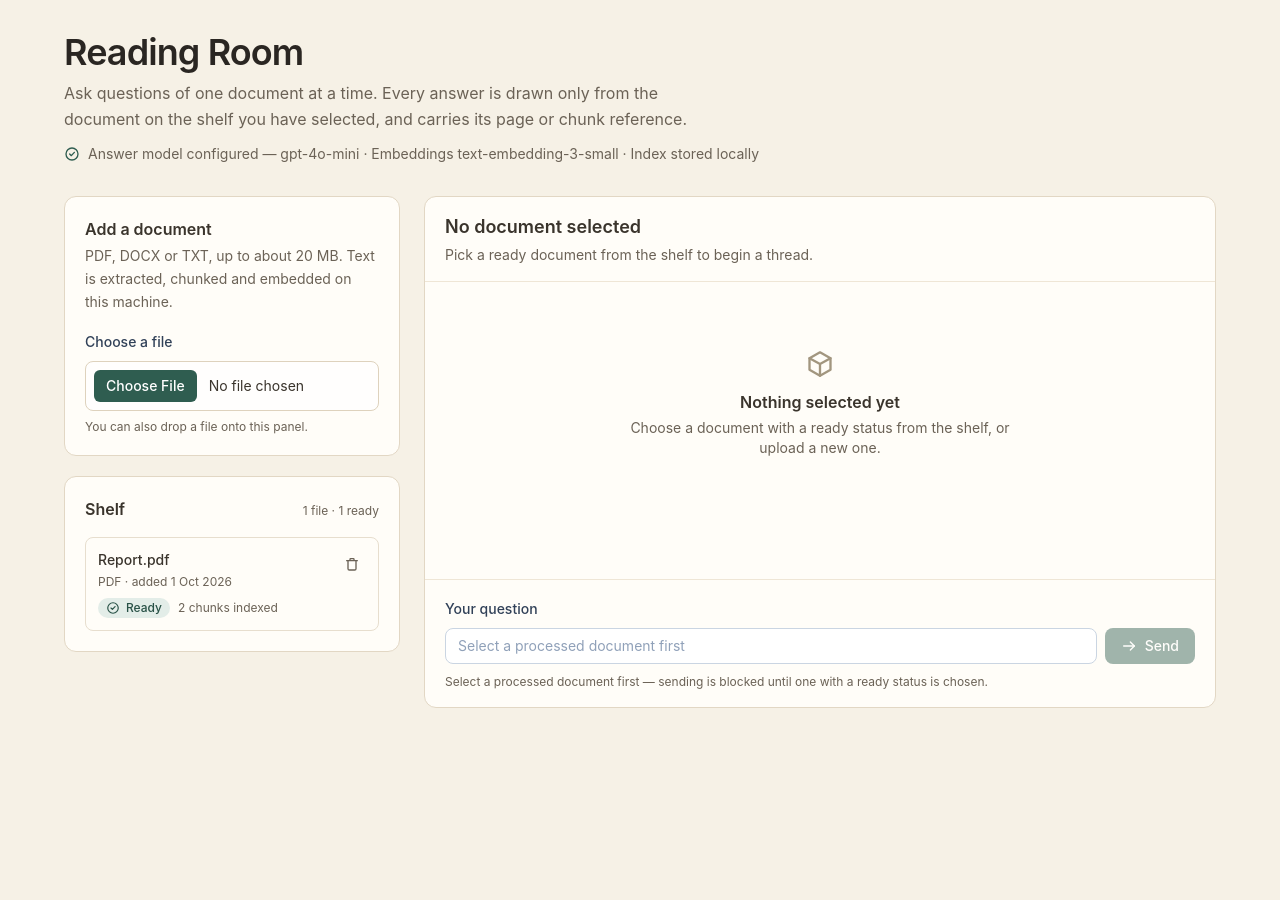
Test: Home screen › AC-042: a fallback reply that still carries a source (is_fallback true) is also rendered without a source reference element
Click the text "Report.pdf" at (134, 560), box [98,551,170,568]
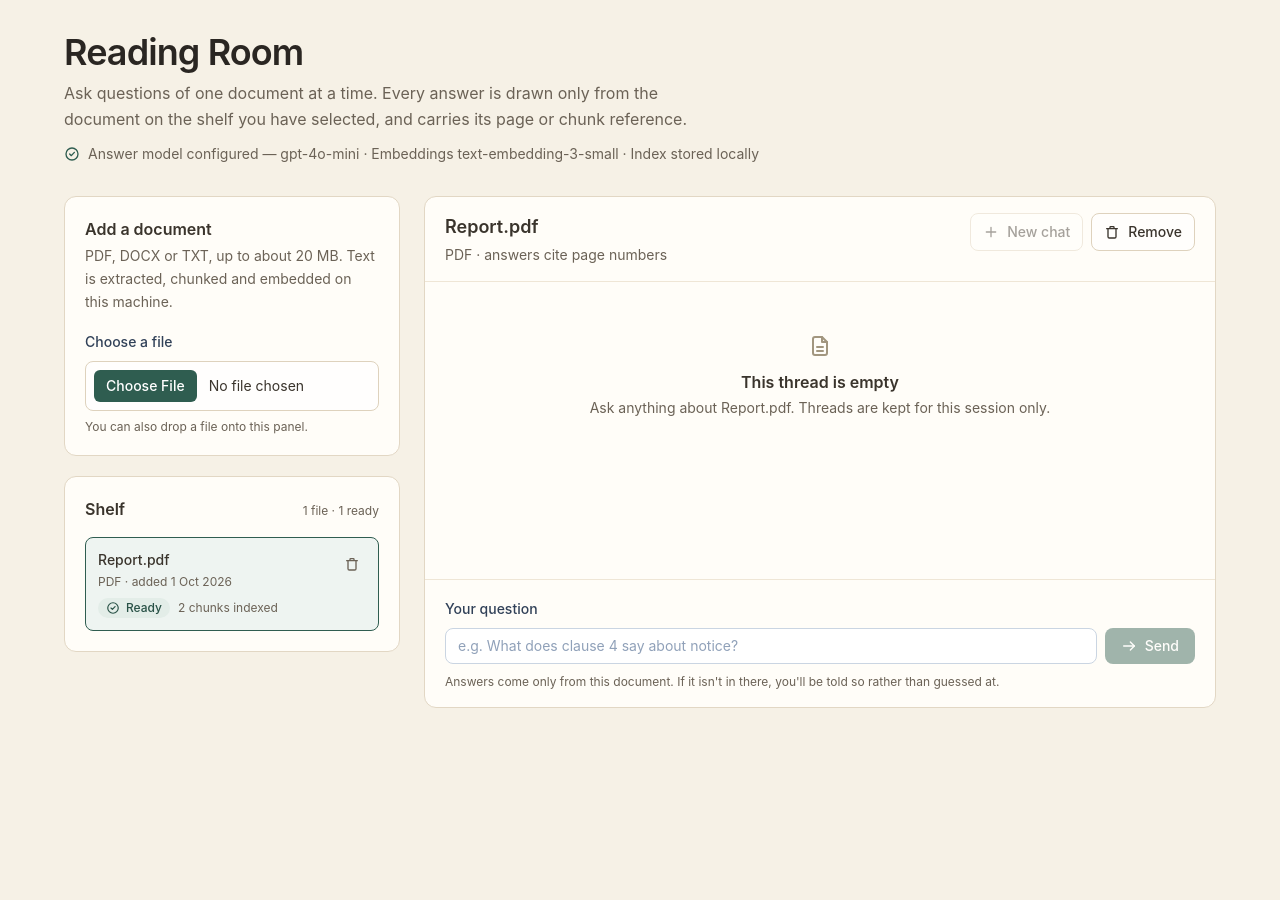
Type "Anything in here?" into the field labelled "Your question" at (771, 646), box [445,628,1097,664]
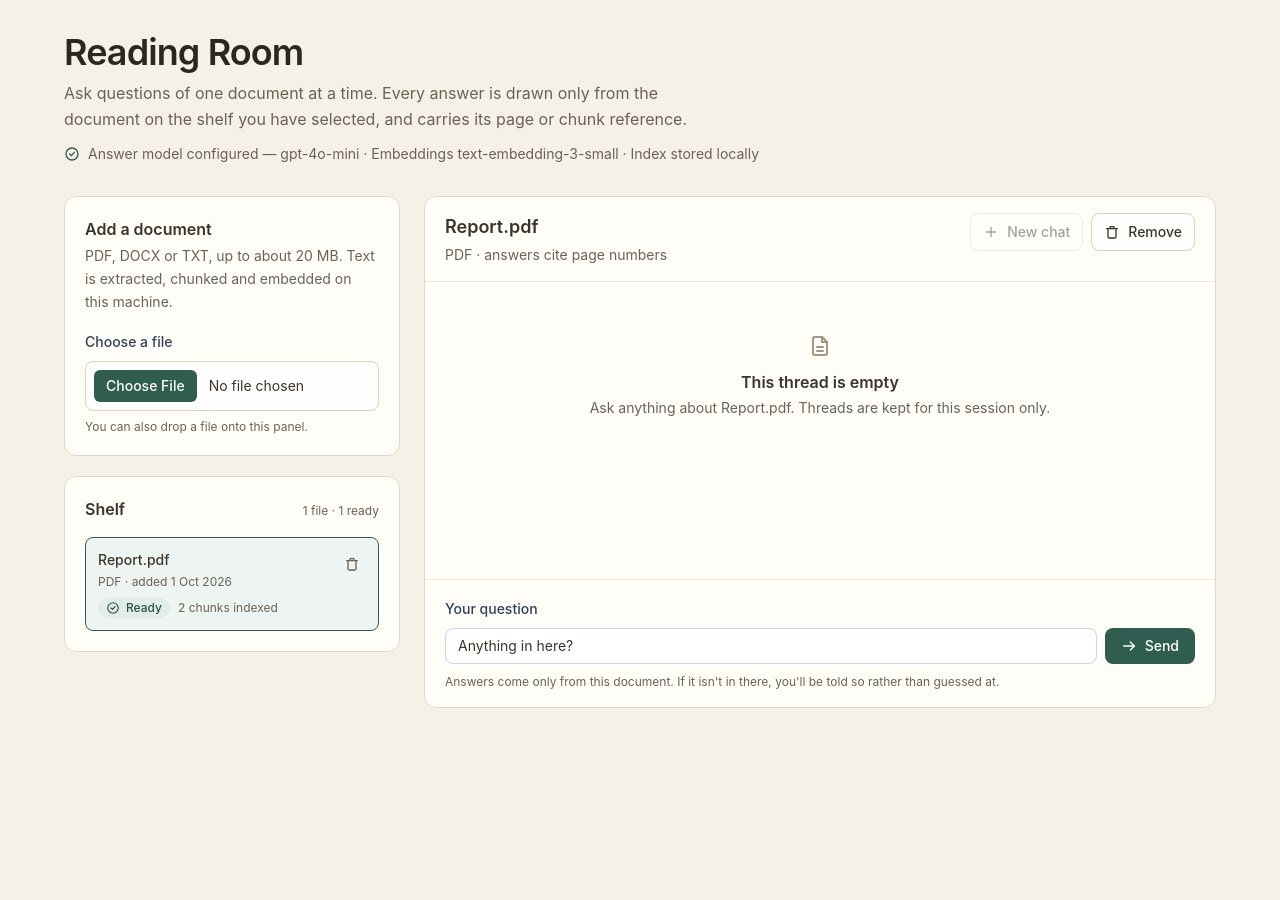
Submit the form labelled "Your question", box [425,578,1215,707]
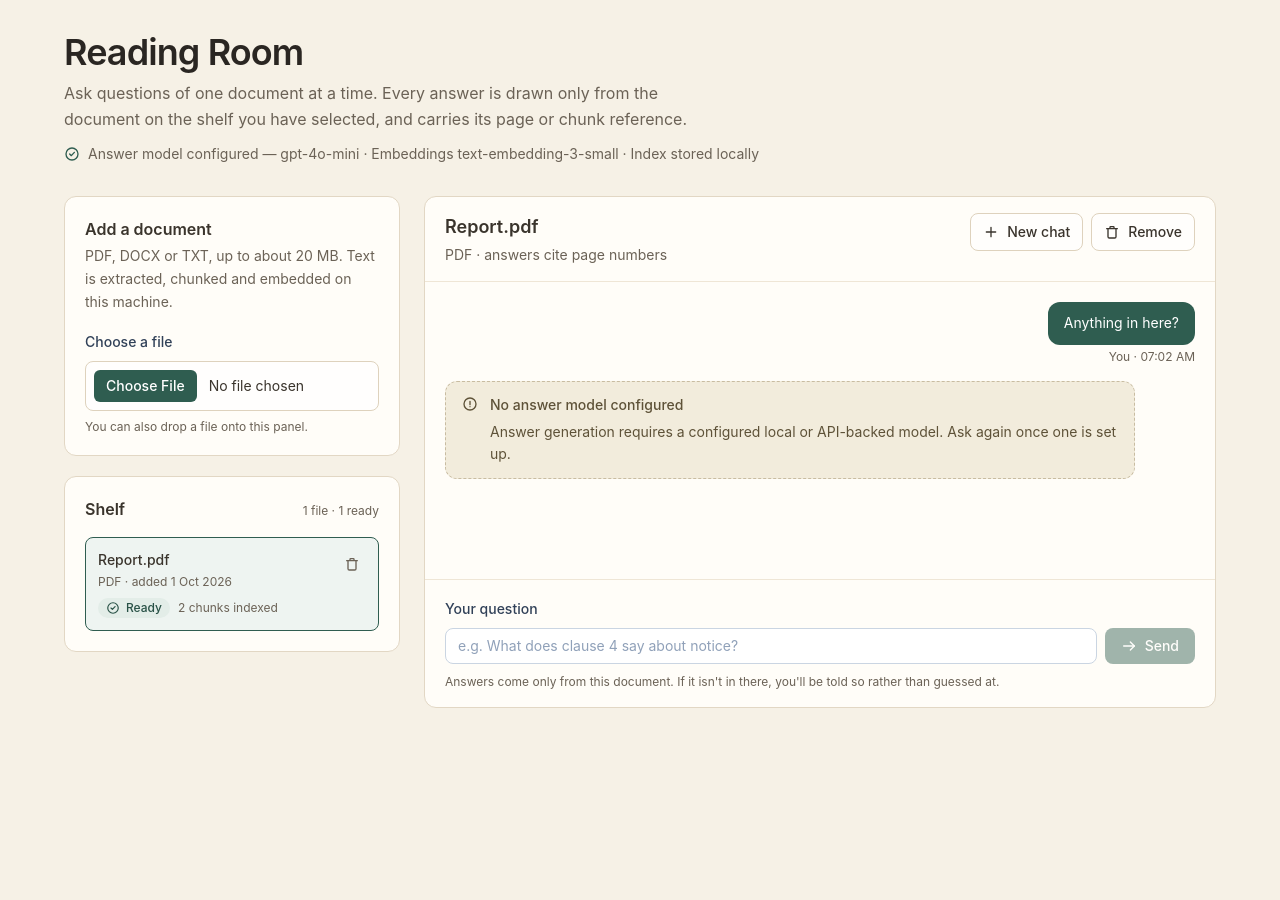
Expected: the text "Answer generation requires a configured local or API-backed model. Ask again once one is set up." is shown, [490,422,1116,462]
